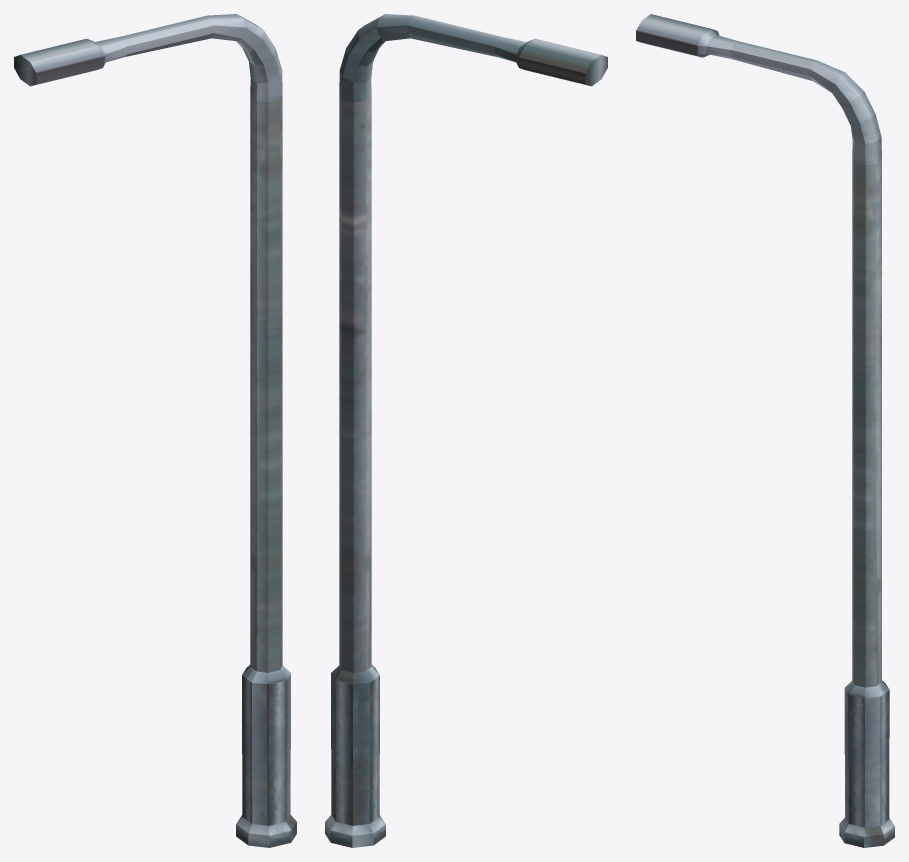
File: Blender_LowPolyStreetlamp.fbx
The picture shows the model from 3 angles, left to right: view 1: azimuth 30°, elevation 25°; view 2: azimuth 150°, elevation 25°; view 3: azimuth 330°, elevation 25°; orthographic projection. The views are drawn at different scales.
Visible parts, largest first — view 1: Cube; view 2: Cube; view 3: Cube.
Boxes of the visible parts, x1,y1,x2,y2 form: Cube: (14,14,296,847); Cube: (325,14,607,847); Cube: (636,14,894,847).
Bounding box in the file's own units: 263 × 791 × 48.
